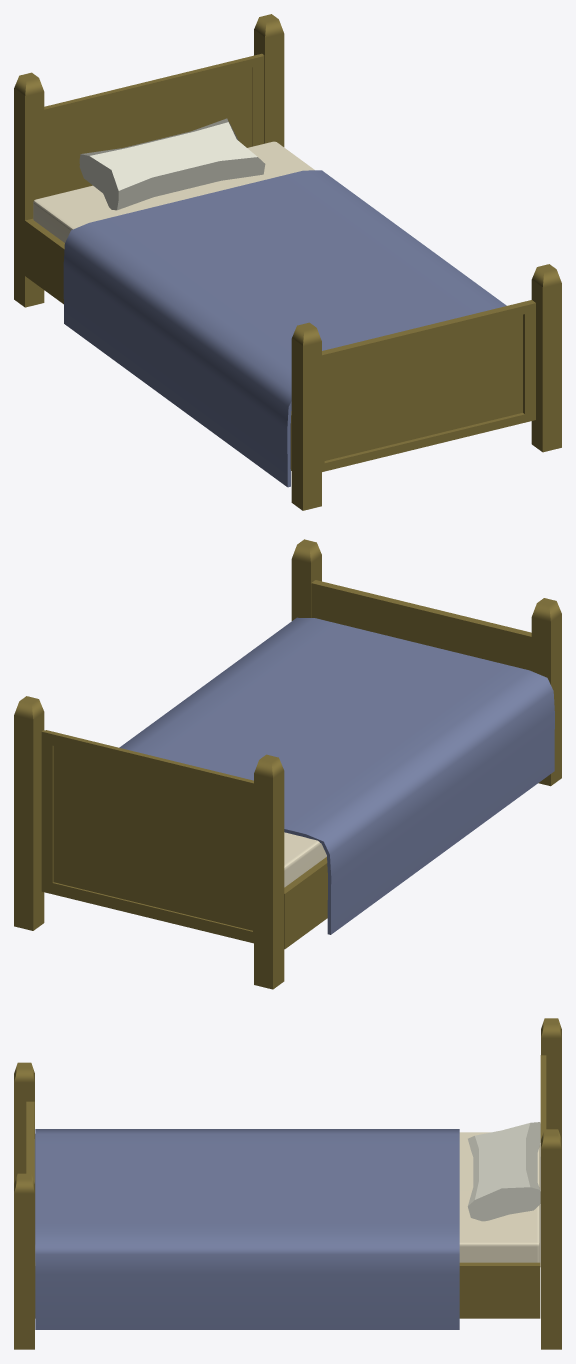
Rendered from ServantBed.fbx.
3 renders of one model, top to bottom at view 1: azimuth 30°, elevation 25°; view 2: azimuth 150°, elevation 25°; view 3: azimuth 270°, elevation 25°, orthographic. The views are drawn at different scales.
Visible parts, largest first — view 1: updatedBed:pCube33; view 2: updatedBed:pCube33; view 3: updatedBed:pCube33.
Part boxes in pixels (x1,y1,x2,y2): updatedBed:pCube33: (14,14,561,510); updatedBed:pCube33: (14,539,561,989); updatedBed:pCube33: (14,1018,561,1349).
Bounding box in the file's own units: 5.02 × 4.05 × 9.44.
